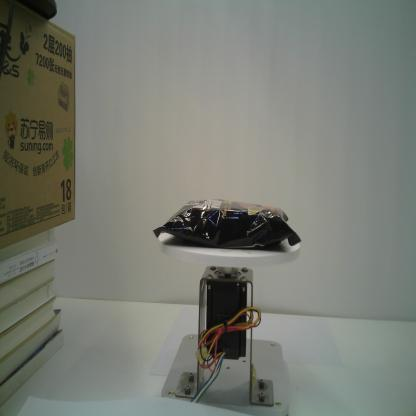Instant Noodles: (152, 197, 303, 252)
